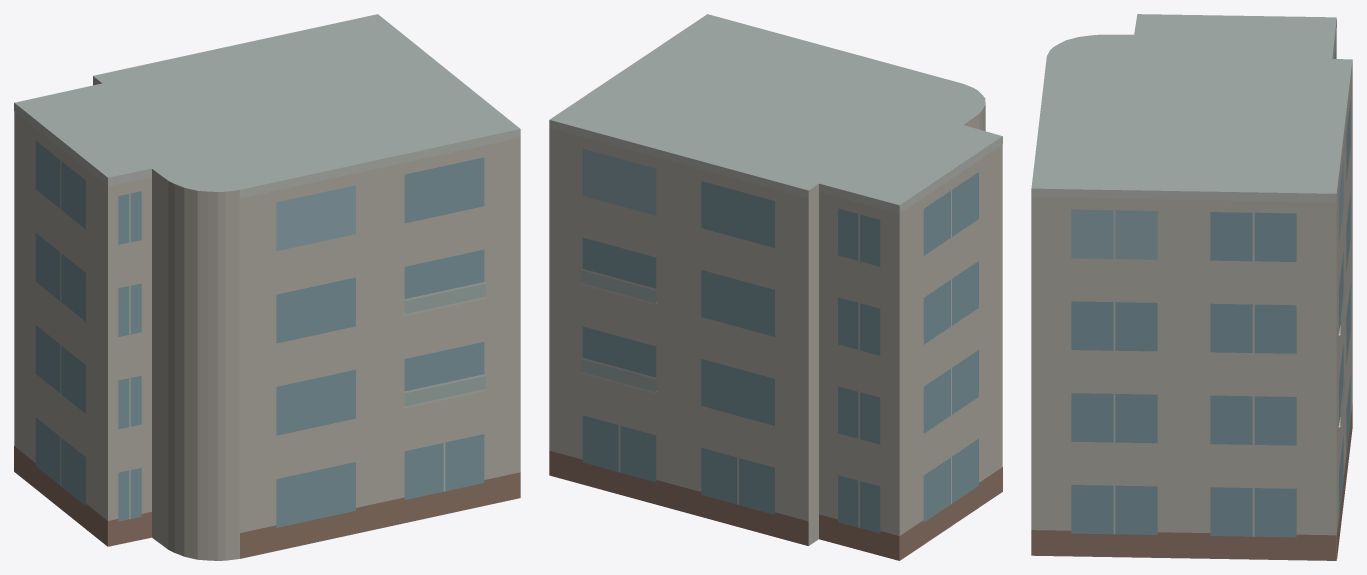
The model's file is survey-upis-32700230.glb.
3 views of the same model, side by side, from view 1: azimuth 30°, elevation 25°; view 2: azimuth 150°, elevation 25°; view 3: azimuth 270°, elevation 25° (orthographic). The views are drawn at different scales.
Visible parts, largest first — view 1: survey-upis-32700230.tmp; view 2: survey-upis-32700230.tmp; view 3: survey-upis-32700230.tmp.
Boxes of the visible parts, x1,y1,x2,y2 form: survey-upis-32700230.tmp: (14, 14, 520, 560); survey-upis-32700230.tmp: (549, 14, 1002, 560); survey-upis-32700230.tmp: (1031, 14, 1352, 560).
Size of the model in its own units: 11.04 by 10.5 by 8.34.
